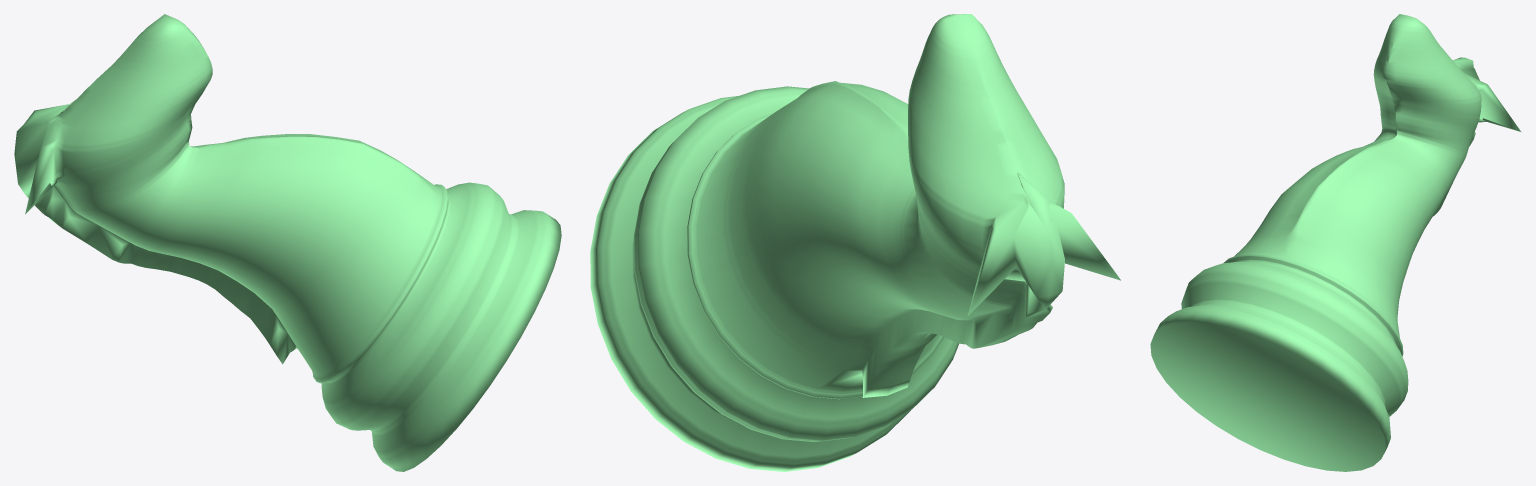
The model's file is light_night_2.fbx.
3 views of the same model, side by side, from view 1: azimuth 30°, elevation 25°; view 2: azimuth 150°, elevation 25°; view 3: azimuth 270°, elevation 25° (orthographic). The views are drawn at different scales.
Visible parts, largest first — view 1: Light Knight2; view 2: Light Knight2; view 3: Light Knight2.
Part boxes in pixels (box(x1,y1,x2,y2)): Light Knight2: box(14, 14, 561, 471); Light Knight2: box(590, 14, 1120, 471); Light Knight2: box(1150, 14, 1520, 471).
Size of the model in its own units: 109 by 99.69 by 88.29.
